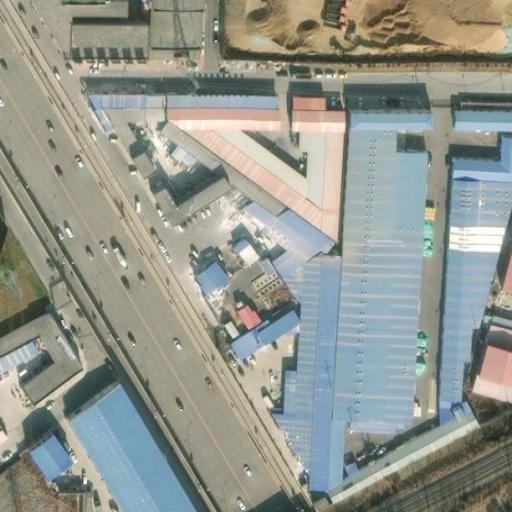building: (323, 103, 423, 429), (143, 114, 327, 270), (159, 100, 337, 237), (427, 170, 509, 409), (262, 249, 337, 486), (317, 393, 472, 500), (60, 389, 188, 512), (82, 89, 183, 128), (147, 171, 221, 222), (442, 129, 512, 174), (64, 19, 141, 59), (18, 428, 65, 476), (141, 0, 193, 39), (467, 335, 512, 378), (190, 255, 234, 297), (493, 210, 512, 289), (444, 104, 512, 124), (475, 308, 512, 344), (228, 232, 262, 267), (231, 296, 263, 331), (459, 368, 504, 390), (129, 147, 157, 178), (286, 89, 316, 103)
